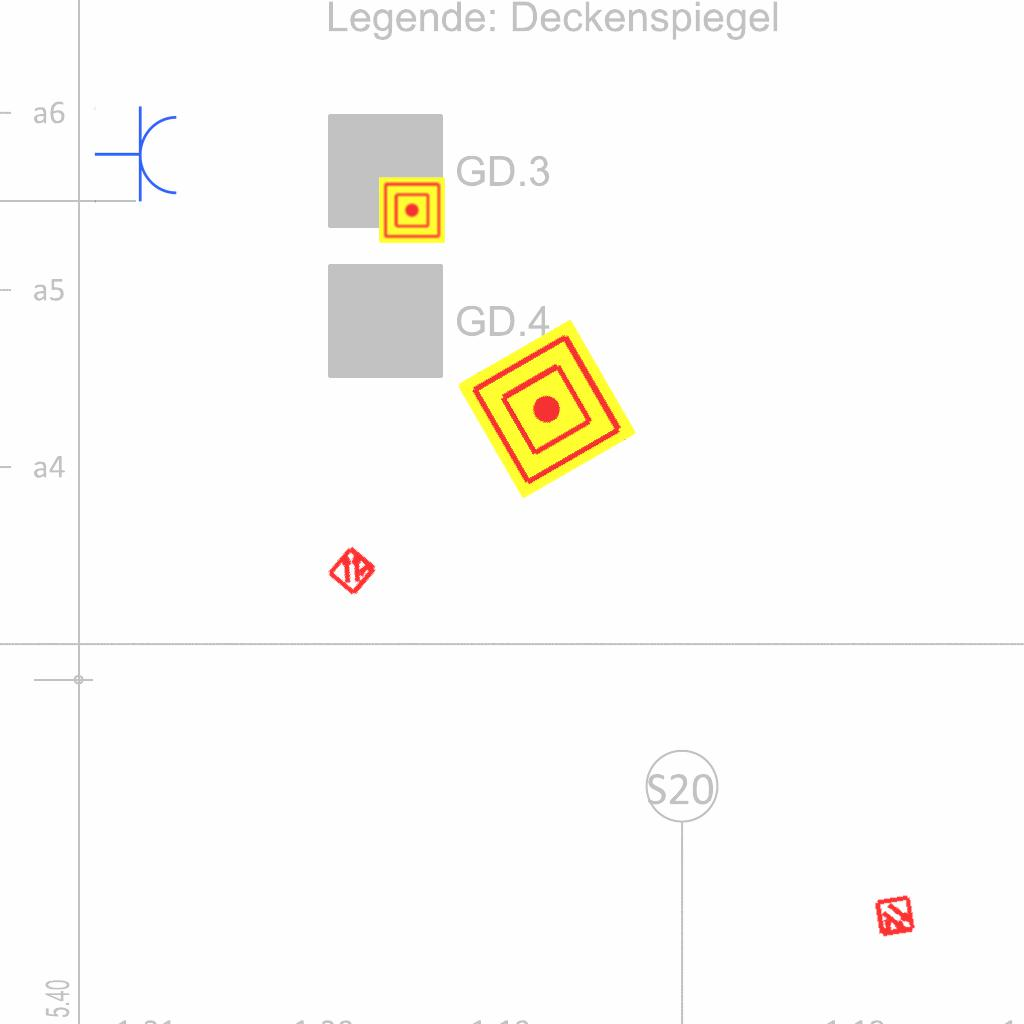NAM-Nichtautomatischer_Melder: (456, 318, 638, 500), (379, 177, 445, 243)
OT_Multisensormelder_(Kombination_RMO_WMD): (313, 530, 393, 610), (862, 884, 928, 950)
Schukosteckdose_einfach: (94, 105, 181, 205)
